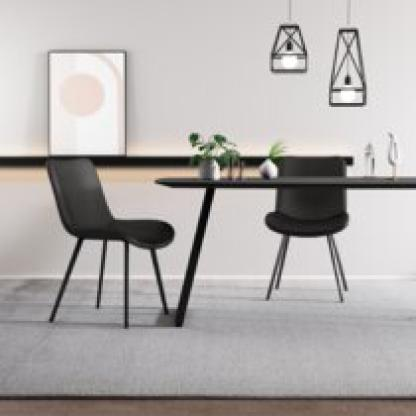chair: (45, 162, 178, 338), (265, 142, 352, 304)
light: (327, 2, 371, 109), (268, 0, 316, 72)
table: (152, 167, 416, 334)
